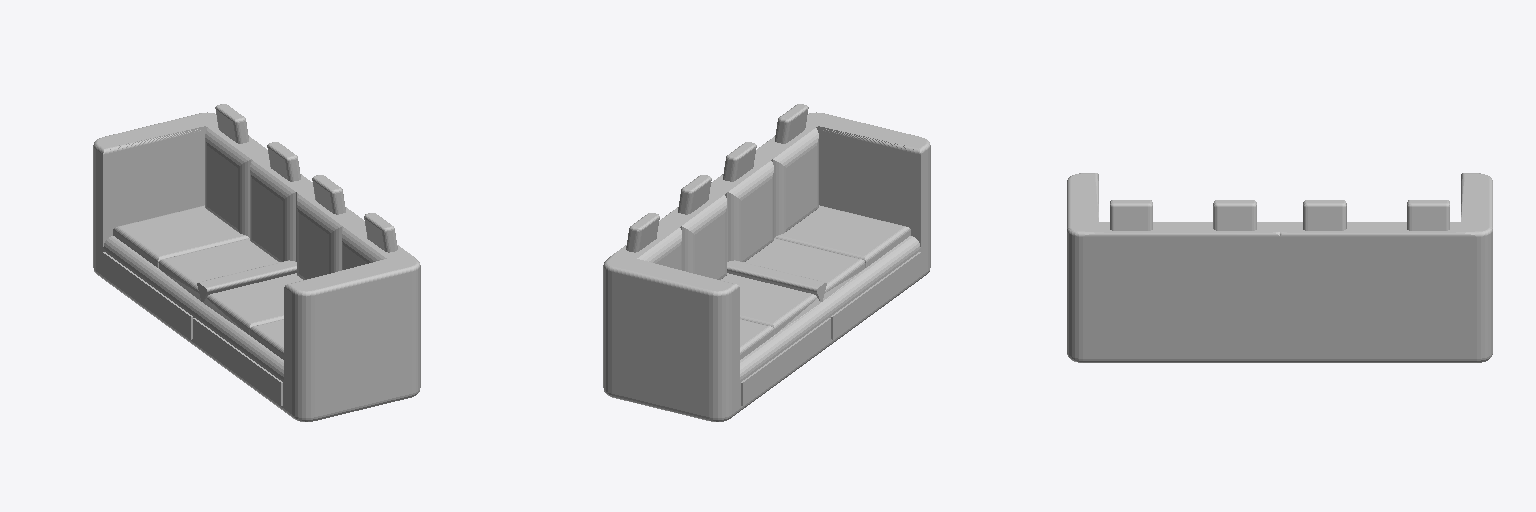
The model's file is kanapa.obj.
The picture shows the model from 3 angles: view 1: azimuth 30°, elevation 25°; view 2: azimuth 150°, elevation 25°; view 3: azimuth 270°, elevation 25°; orthographic projection.
Visible parts, largest first — view 1: Kanapa_Baked_Cube.005; view 2: Kanapa_Baked_Cube.005; view 3: Kanapa_Baked_Cube.005.
Boxes of the visible parts, x1,y1,x2,y2 form: Kanapa_Baked_Cube.005: [93, 104, 420, 421]; Kanapa_Baked_Cube.005: [603, 104, 930, 421]; Kanapa_Baked_Cube.005: [1067, 173, 1492, 362].
Size of the model in its own units: 2.03 by 2.37 by 5.86.